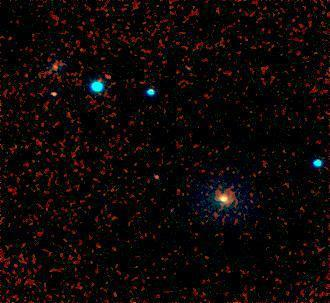star: (100, 60, 130, 90)
